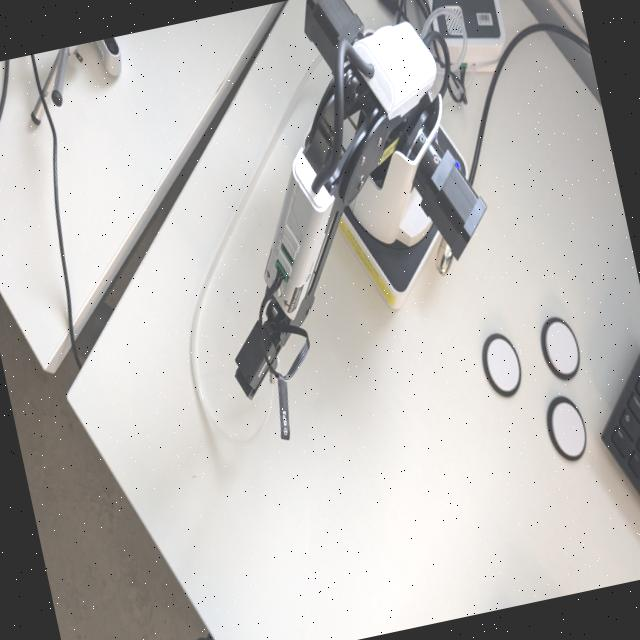Robot-end-effector-HF8z: (223, 315, 288, 405)
